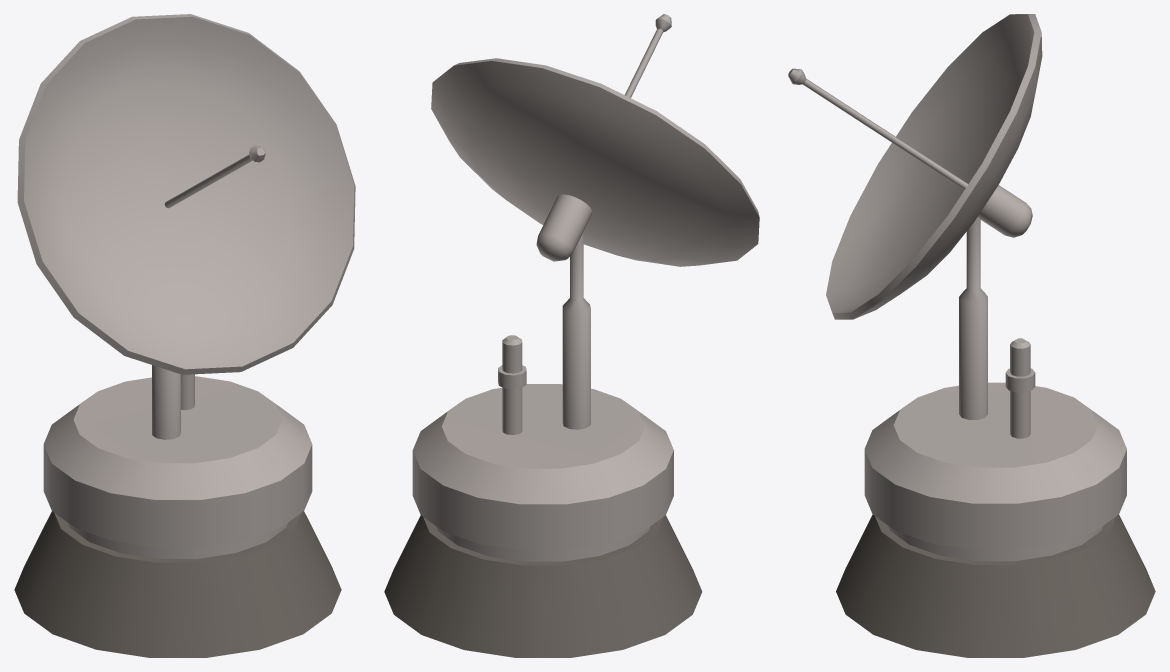
The model's file is roof-radar.glb.
3 views of the same model, side by side, from view 1: azimuth 30°, elevation 25°; view 2: azimuth 150°, elevation 25°; view 3: azimuth 270°, elevation 25° (orthographic). The views are drawn at different scales.
Parts seen in each view (by area): view 1: Roof_Radar; view 2: Roof_Radar; view 3: Roof_Radar.
Boxes of the visible parts, x1,y1,x2,y2 form: Roof_Radar: [14, 14, 355, 657]; Roof_Radar: [384, 14, 759, 657]; Roof_Radar: [788, 14, 1155, 657].
Size of the model in its own units: 1.63 by 2.71 by 1.65.
Materials: 1 (1 with a texture image).
